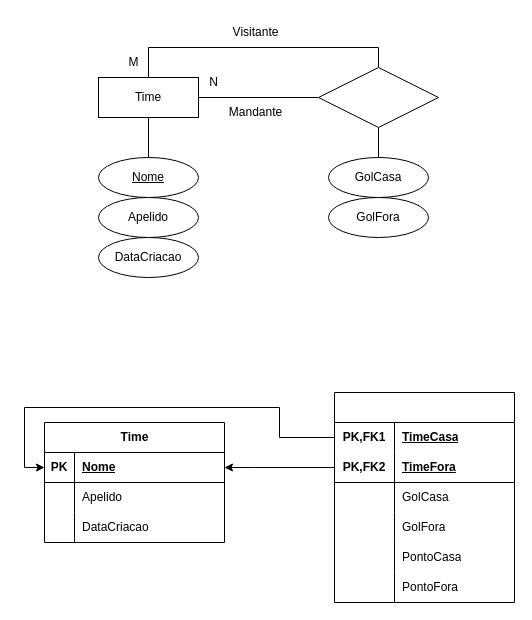
Some shapes in this 532 by 620 pixel diagram are drawn without their labels. Each missing label, with the box of its shape:
joga contra: (318, 66, 438, 128)
Jogo: (334, 392, 514, 602)
